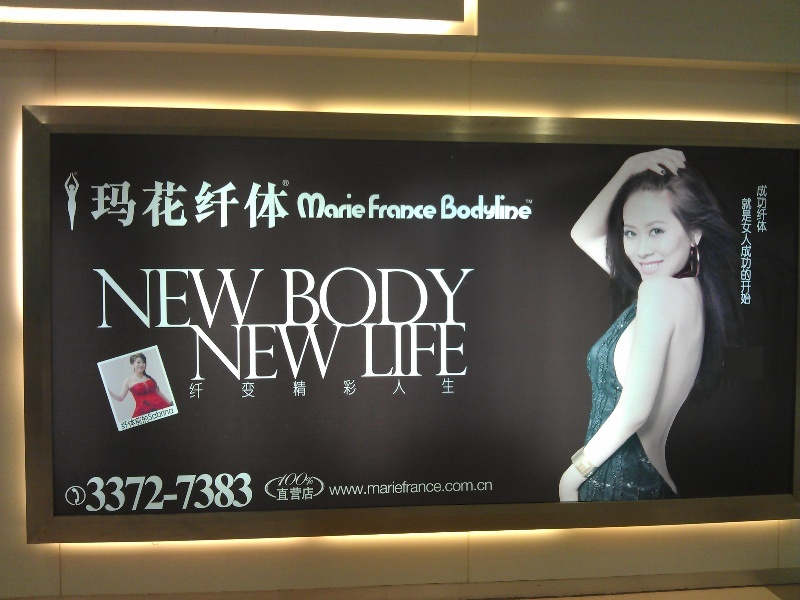text: (741, 197, 752, 306), (97, 266, 112, 330), (113, 266, 128, 330), (129, 266, 144, 330), (145, 266, 160, 330), (161, 266, 176, 330), (177, 266, 192, 330), (193, 266, 208, 330), (209, 266, 224, 330), (225, 266, 240, 330), (241, 266, 256, 330), (289, 267, 304, 325), (305, 267, 320, 325), (321, 267, 336, 325), (337, 267, 352, 325), (353, 267, 368, 325), (369, 267, 384, 325), (385, 267, 400, 325), (401, 267, 416, 325), (417, 267, 432, 325), (433, 267, 448, 325), (449, 267, 464, 325), (193, 325, 208, 382), (209, 325, 224, 382), (225, 325, 240, 382), (241, 325, 256, 382), (257, 325, 272, 382), (273, 325, 288, 382), (289, 325, 304, 382), (305, 325, 320, 382), (321, 325, 336, 382), (369, 325, 384, 379), (385, 325, 400, 379), (401, 325, 416, 379), (417, 325, 432, 379), (433, 325, 448, 379), (449, 325, 464, 379), (97, 181, 112, 232), (113, 181, 128, 232), (129, 181, 144, 232), (145, 181, 160, 232), (161, 181, 176, 232), (177, 181, 192, 232), (193, 181, 208, 232), (209, 181, 224, 232), (225, 181, 240, 232), (241, 181, 256, 232), (257, 181, 272, 232), (273, 181, 288, 232), (97, 472, 112, 515), (113, 472, 128, 515), (129, 472, 144, 515), (145, 472, 160, 515), (161, 472, 176, 515), (177, 472, 192, 515), (193, 472, 208, 515), (209, 472, 224, 515), (225, 472, 240, 515), (257, 266, 267, 330), (465, 267, 476, 325), (756, 184, 768, 234), (83, 472, 96, 515), (279, 267, 288, 325), (241, 472, 253, 515), (359, 325, 368, 379), (305, 192, 320, 220), (321, 192, 336, 220), (337, 192, 352, 220), (337, 325, 344, 382), (353, 192, 367, 220), (369, 195, 384, 220), (385, 195, 400, 220), (401, 195, 416, 220), (417, 195, 432, 220), (449, 195, 464, 220), (465, 195, 480, 220), (481, 195, 496, 220), (497, 195, 512, 220), (513, 195, 528, 220), (193, 377, 208, 401), (209, 377, 224, 401), (225, 377, 240, 401), (241, 377, 256, 401), (257, 377, 272, 401), (273, 377, 288, 401), (289, 377, 304, 401), (305, 377, 320, 401), (321, 377, 336, 401), (337, 377, 352, 401), (353, 377, 368, 401), (369, 377, 384, 401), (385, 377, 400, 401), (401, 377, 416, 401), (417, 377, 432, 401), (433, 377, 448, 401), (129, 406, 144, 430), (145, 406, 160, 430), (161, 406, 175, 430), (465, 325, 471, 379), (91, 266, 96, 330), (90, 181, 96, 232), (337, 479, 352, 497), (353, 479, 368, 497), (369, 479, 384, 497), (385, 479, 400, 497), (401, 479, 416, 497), (417, 479, 432, 497), (433, 479, 448, 497), (449, 479, 464, 497), (465, 479, 480, 497), (449, 377, 459, 401), (289, 471, 304, 487), (289, 486, 304, 502), (188, 325, 192, 382), (296, 192, 304, 220), (119, 406, 128, 430), (481, 479, 493, 497), (276, 486, 288, 502), (277, 471, 288, 487), (441, 195, 448, 220), (305, 471, 314, 487), (305, 486, 314, 502), (328, 479, 336, 497), (433, 195, 438, 220), (529, 195, 533, 220), (189, 377, 192, 401), (289, 181, 290, 232), (529, 200, 533, 204), (285, 181, 288, 186), (526, 200, 528, 204)
